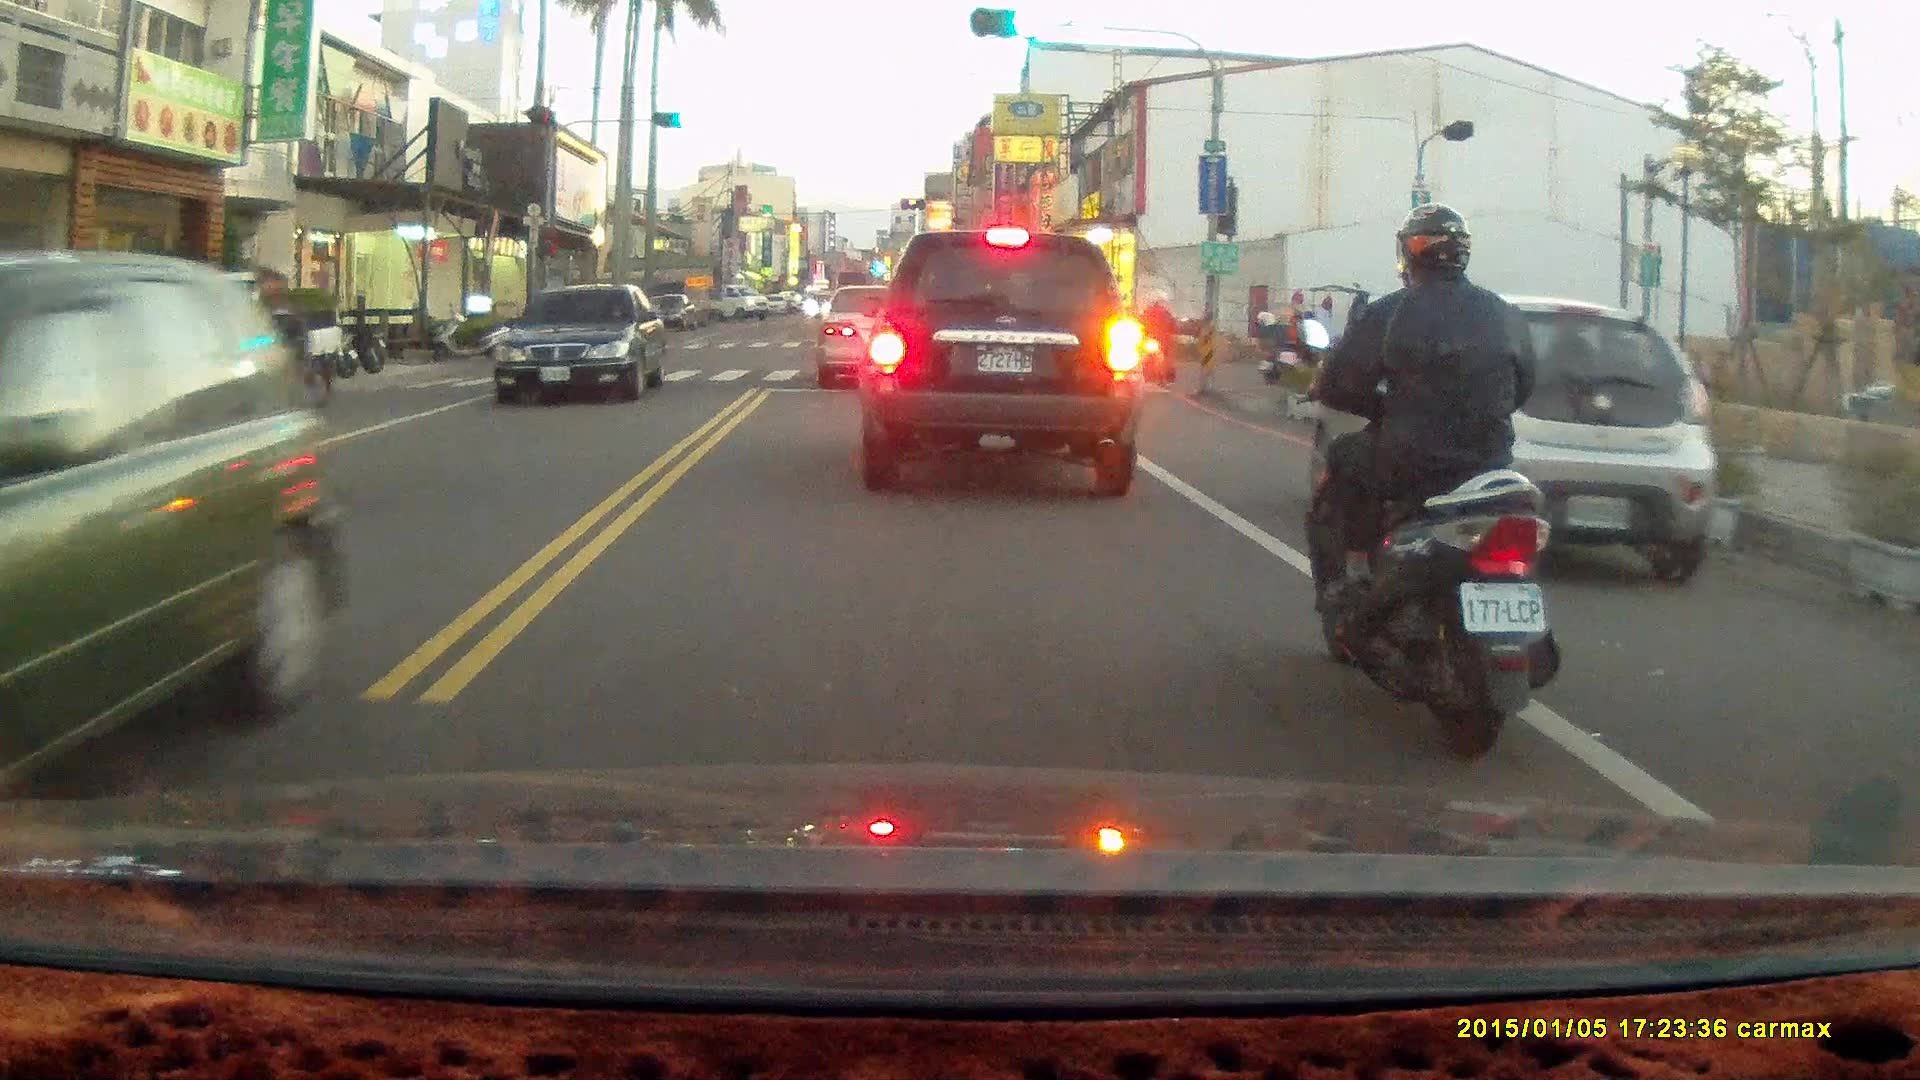pedestrian: (1251, 300, 1280, 366)
rider: (1288, 198, 1562, 757), (1256, 300, 1326, 383), (1128, 287, 1183, 389)
vehicle: (1, 249, 358, 798), (1311, 291, 1722, 582), (859, 224, 1143, 499), (136, 268, 348, 414), (497, 283, 669, 407), (815, 282, 938, 394)
